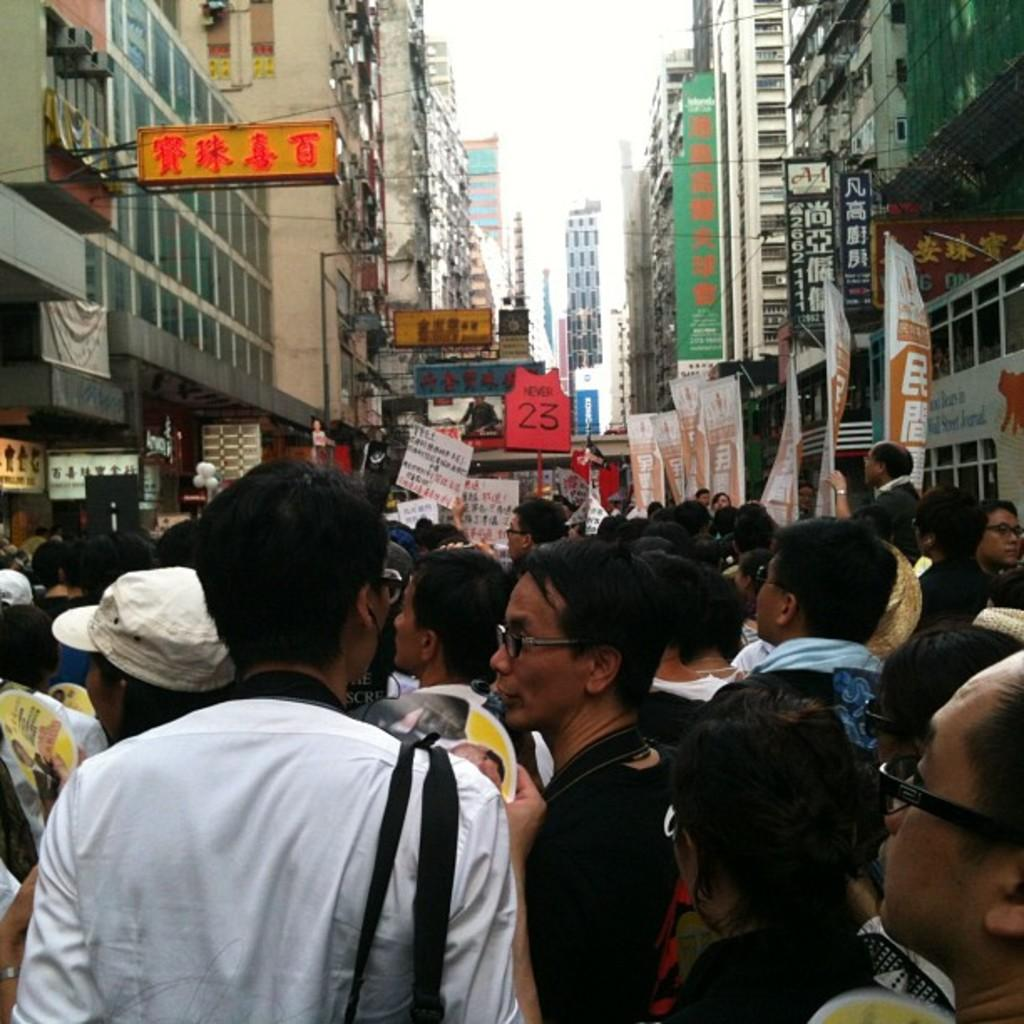Hat: (48, 560, 234, 694), (879, 540, 933, 652)
